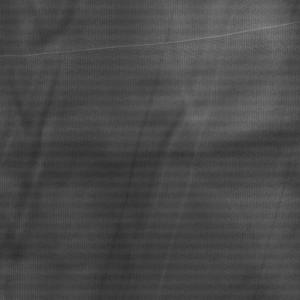Wrinkle: (99, 27, 240, 300), (1, 1, 93, 300), (256, 146, 300, 300)
